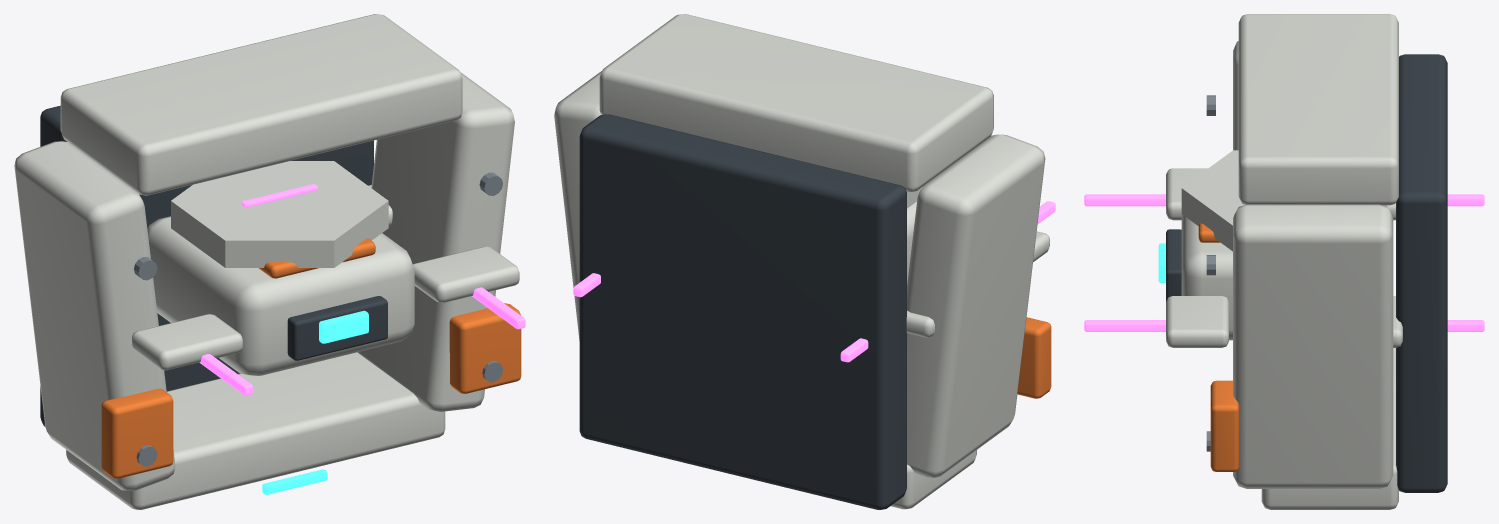
Rendered from VXDR_JAMMER_v001_DOCKED.fbx.
The picture shows the model from 3 angles, left to right: view 1: azimuth 30°, elevation 25°; view 2: azimuth 150°, elevation 25°; view 3: azimuth 270°, elevation 25°; orthographic projection. The views are drawn at different scales.
Parts seen in each view (by area): view 1: Docked_Top bridge, Docked_Cradle armored rail, Docked_Bottom charging bridge, Docked_Cradle armored rail.001, Docked_Armored sensor shell, Docked_Hexagonal resonator, Docked_Rail orange latch, Docked_Rail orange latch.001, Docked_Body mounting plate, Docked_Foldable stabilizer, Docked_Foldable stabilizer.002, Docked_Sensor recess (+6 smaller); view 2: Docked_Body mounting plate, Docked_Top bridge, Docked_Cradle armored rail, Docked_Cradle armored rail.001, Docked_Rail orange latch, Docked_Bottom charging bridge, Docked_Foldable stabilizer.001; view 3: Docked_Cradle armored rail.001, Docked_Top bridge, Docked_Body mounting plate, Docked_Hexagonal resonator, Docked_Bottom charging bridge, Docked_Foldable stabilizer.002, Docked_Armored sensor shell, Docked_Rail orange latch.001, Docked_Foldable stabilizer, Docked_Sensor recess, Docked_Jamming aerial, Docked_Jamming aerial.002 (+3 smaller).
Boxes of the visible parts, bbox=[...] form: Docked_Top bridge: bbox=[60, 14, 462, 195]; Docked_Cradle armored rail: bbox=[14, 141, 175, 490]; Docked_Bottom charging bridge: bbox=[66, 352, 445, 509]; Docked_Cradle armored rail.001: bbox=[357, 72, 514, 411]; Docked_Armored sensor shell: bbox=[147, 216, 414, 375]; Docked_Hexagonal resonator: bbox=[171, 161, 388, 267]; Docked_Rail orange latch: bbox=[101, 388, 173, 478]; Docked_Rail orange latch.001: bbox=[449, 303, 521, 393]; Docked_Body mounting plate: bbox=[40, 105, 373, 426]; Docked_Foldable stabilizer: bbox=[132, 314, 242, 370]; Docked_Foldable stabilizer.002: bbox=[412, 246, 519, 302]; Docked_Sensor recess: bbox=[287, 296, 387, 360]; Docked_Body mounting plate: bbox=[579, 114, 906, 509]; Docked_Top bridge: bbox=[599, 14, 993, 191]; Docked_Cradle armored rail: bbox=[907, 134, 1045, 477]; Docked_Cradle armored rail.001: bbox=[554, 71, 601, 340]; Docked_Rail orange latch: bbox=[1017, 317, 1051, 398]; Docked_Bottom charging bridge: bbox=[890, 450, 976, 509]; Docked_Foldable stabilizer.001: bbox=[906, 310, 934, 337]; Docked_Cradle armored rail.001: bbox=[1233, 204, 1393, 488]; Docked_Top bridge: bbox=[1238, 14, 1398, 205]; Docked_Body mounting plate: bbox=[1396, 54, 1447, 492]; Docked_Hexagonal resonator: bbox=[1181, 150, 1387, 251]; Docked_Bottom charging bridge: bbox=[1261, 348, 1398, 509]; Docked_Foldable stabilizer.002: bbox=[1166, 296, 1228, 347]; Docked_Armored sensor shell: bbox=[1181, 214, 1232, 340]; Docked_Rail orange latch.001: bbox=[1210, 380, 1239, 471]; Docked_Foldable stabilizer: bbox=[1166, 168, 1207, 220]; Docked_Sensor recess: bbox=[1166, 229, 1181, 301]; Docked_Jamming aerial: bbox=[1084, 194, 1165, 206]; Docked_Jamming aerial.002: bbox=[1084, 320, 1165, 331].
Size of the model in its own units: 40.81 by 35 by 35.
